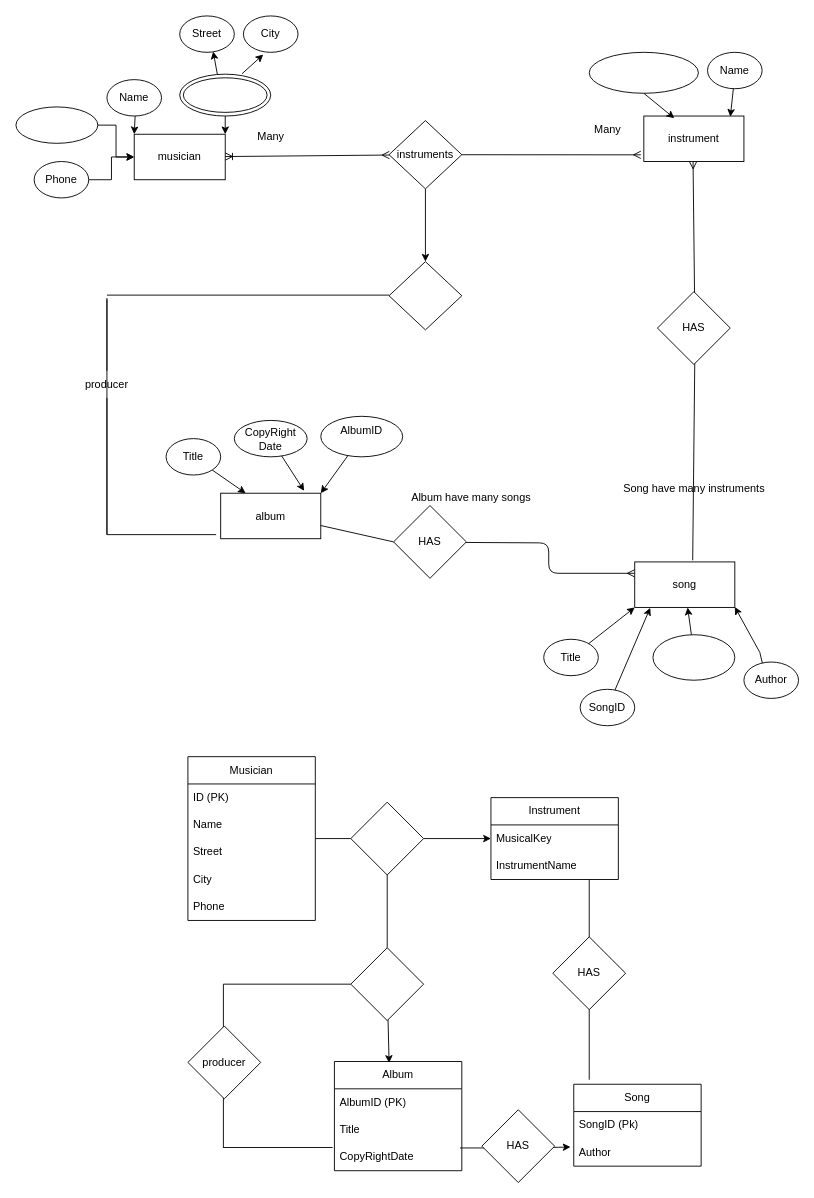
This 814x1198 diagram has some shape labels left out. Here are the shapes that lost their labels. From the top down, the centre of each, then its label:
(643,72): Musical Key (pk)
(225,94): Addresses
(56,124): MusicianID (PK)
(425,295): songs
(693,657): AlbumID (FK album)
(387,838): musical instrument
(387,984): Song performance
